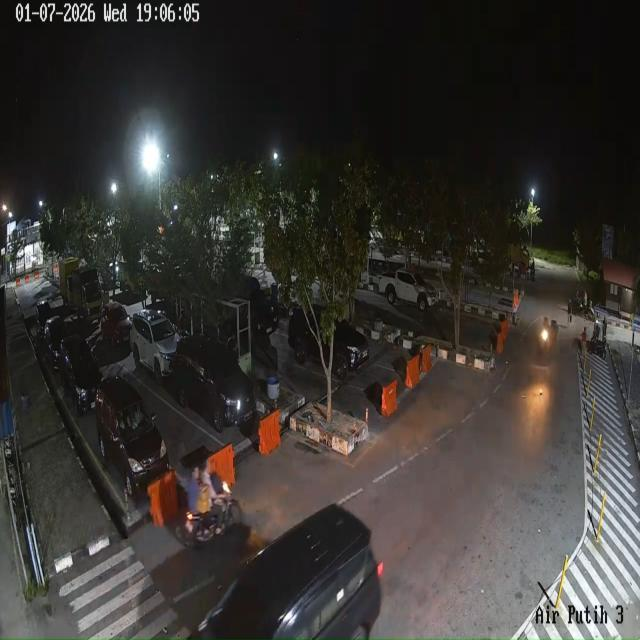Golongan IVA: (191, 504, 383, 639), (95, 375, 169, 497), (171, 334, 256, 432), (288, 306, 369, 380), (59, 334, 103, 417), (130, 309, 178, 384), (101, 301, 131, 346), (43, 316, 66, 370), (36, 300, 52, 339)
Golongan IVB: (378, 270, 439, 312)
Golongan VB: (59, 258, 103, 321)
